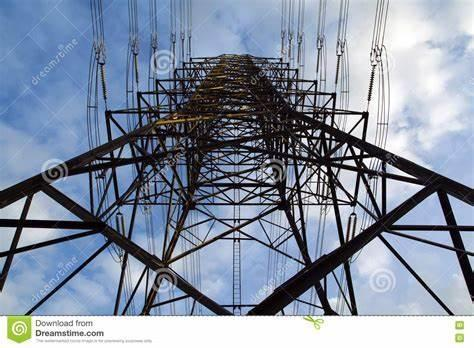power_tower: (1, 44, 474, 317)
